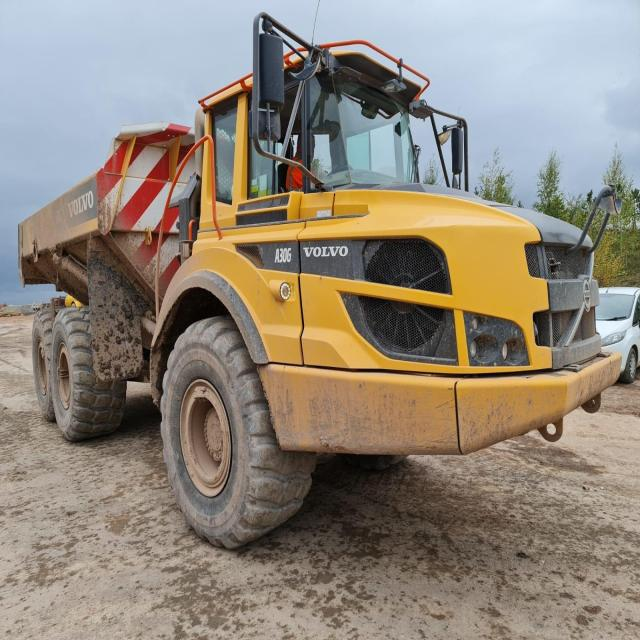dump_truck: (14, 15, 622, 548)
